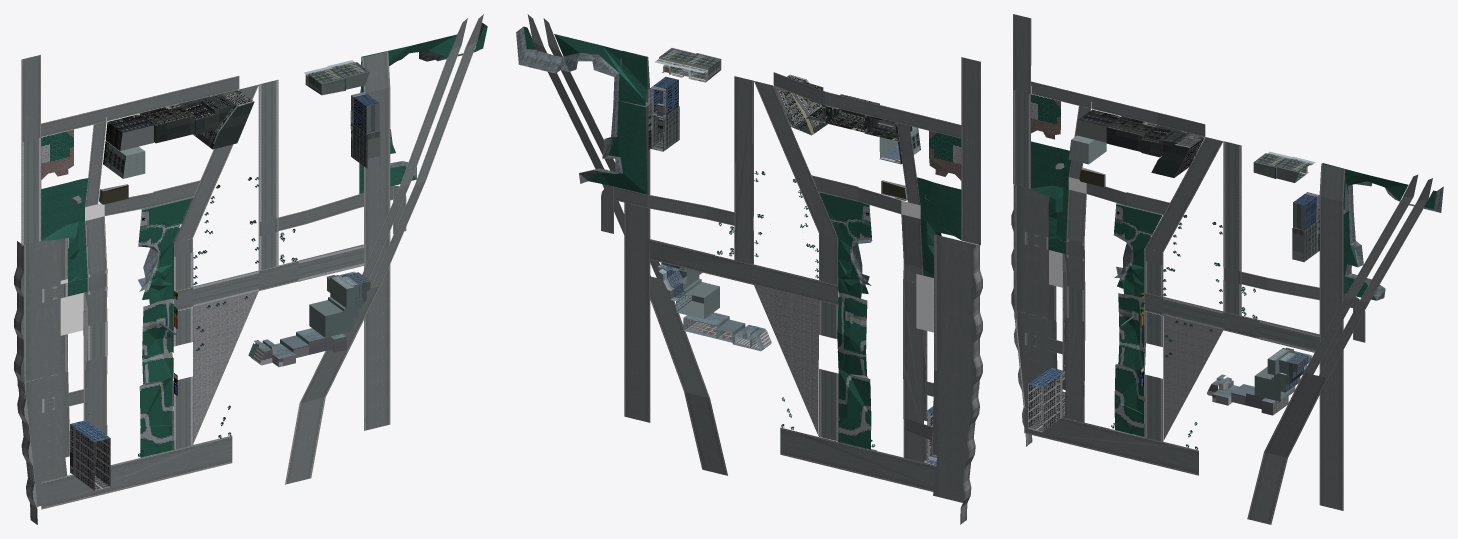
Rendered from comnbtm_comnbtm__part_03.obj.
The picture shows the model from 3 angles, left to right: view 1: azimuth 30°, elevation 25°; view 2: azimuth 150°, elevation 25°; view 3: azimuth 330°, elevation 25°; orthographic projection. The views are drawn at different scales.
Visible parts, largest first — view 1: comnbtm_comnbtm__part_03; view 2: comnbtm_comnbtm__part_03; view 3: comnbtm_comnbtm__part_03.
Boxes of the visible parts, box(x1,y1,x2,y2) form: comnbtm_comnbtm__part_03: box(14, 14, 487, 524); comnbtm_comnbtm__part_03: box(516, 14, 982, 524); comnbtm_comnbtm__part_03: box(1011, 14, 1443, 524).
Bounding box in the file's own units: 708 × 705 × 93.79.
96 materials, 92 textured.
